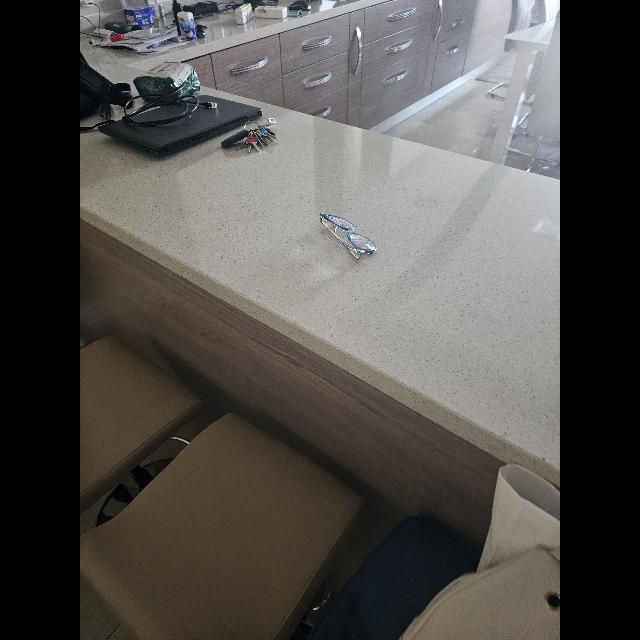Keys: (236, 118, 278, 154)
glasses: (319, 213, 376, 259)
